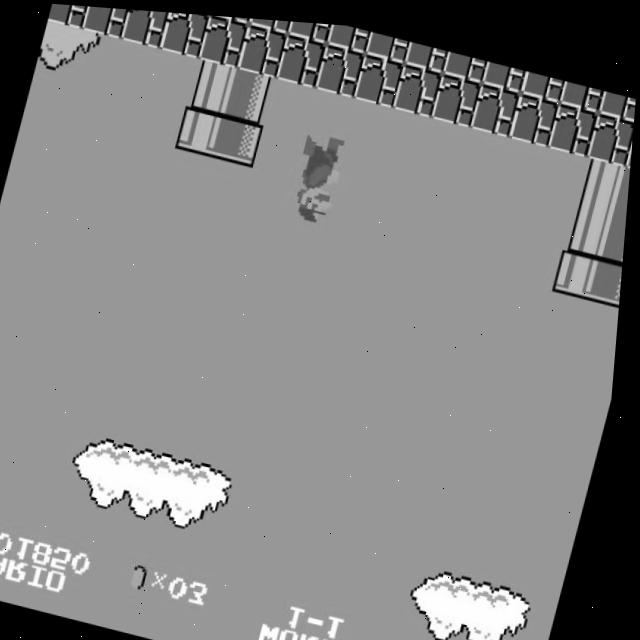0- big_mario: (284, 124, 350, 228)
14- pipe: (576, 148, 628, 202), (187, 55, 238, 110), (226, 64, 277, 119), (566, 192, 617, 247), (604, 201, 629, 254), (615, 156, 632, 209)
15- pipe_head: (176, 99, 227, 154), (215, 109, 266, 163), (555, 237, 606, 291), (593, 247, 626, 299)
17- undestructible_block: (275, 29, 327, 84), (314, 38, 366, 93), (353, 47, 405, 102), (509, 84, 561, 139), (548, 93, 600, 148), (393, 56, 444, 111), (431, 65, 482, 120), (470, 75, 521, 130), (237, 20, 288, 74), (198, 12, 249, 65), (587, 103, 636, 157), (158, 9, 209, 55), (120, 7, 170, 46), (80, 5, 130, 37), (364, 25, 410, 58), (403, 34, 449, 67), (442, 43, 488, 76), (520, 62, 566, 95), (559, 71, 605, 104), (481, 53, 527, 85), (325, 19, 371, 49), (597, 80, 637, 112), (48, 3, 91, 27), (286, 17, 331, 39), (247, 14, 292, 30), (209, 12, 253, 21)
